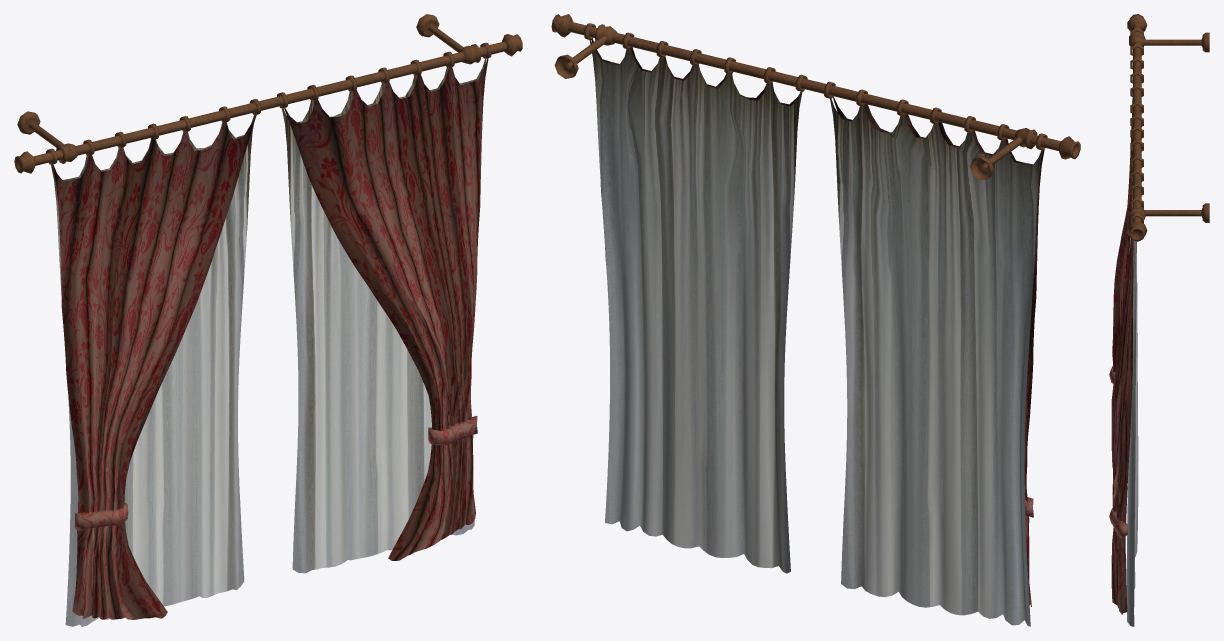
The model's file is Shtora.fbx.
The picture shows the model from 3 angles, left to right: view 1: azimuth 30°, elevation 25°; view 2: azimuth 150°, elevation 25°; view 3: azimuth 270°, elevation 25°; orthographic projection. The views are drawn at different scales.
Visible parts, largest first — view 1: curtain_prop; view 2: curtain_prop; view 3: curtain_prop.
Part boxes in pixels (x1,y1,x2,y2): curtain_prop: [14, 14, 522, 626]; curtain_prop: [551, 14, 1080, 626]; curtain_prop: [1109, 14, 1209, 626].
Bounding box in the file's own units: 1732 × 1618 × 345.
